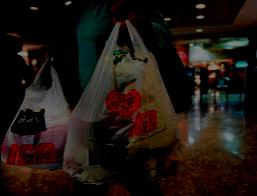Plastic: (65, 9, 186, 185), (0, 48, 80, 173)
